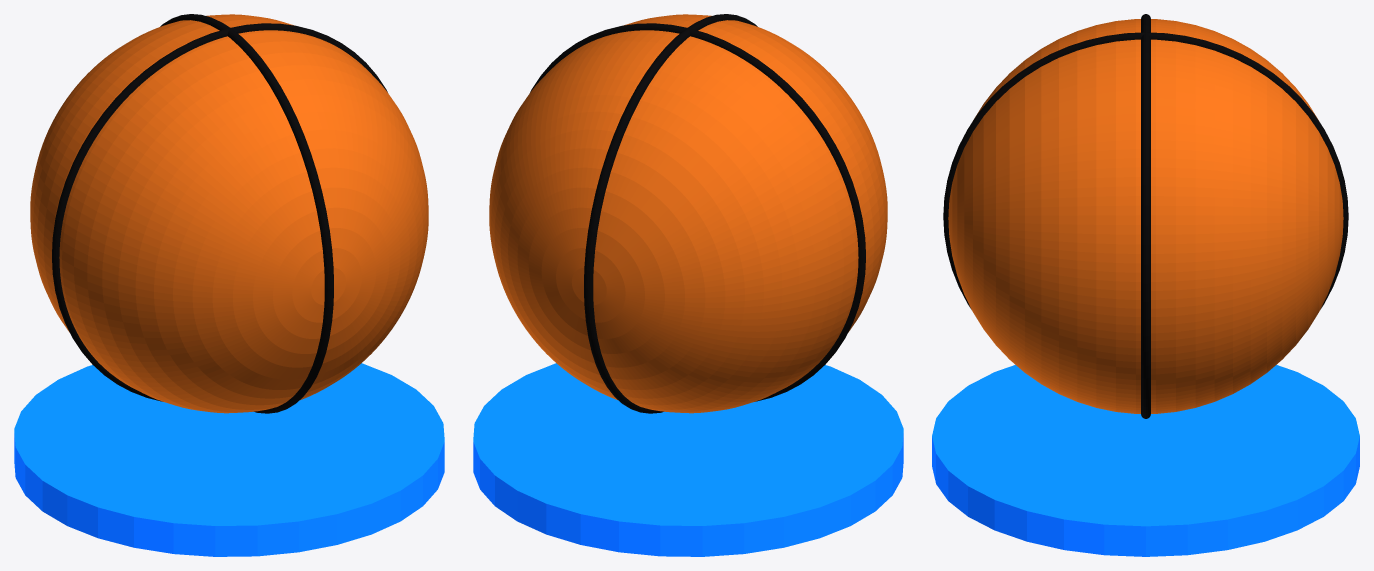
File: sports_basketball.dae
3 renders of one model, left to right at view 1: azimuth 30°, elevation 25°; view 2: azimuth 150°, elevation 25°; view 3: azimuth 270°, elevation 25°, orthographic.
Visible parts, largest first — view 1: 04_02_Popular_Sports_Basketball_part_01, 04_02_Popular_Sports_Basketball_ROOT_base, 04_02_Popular_Sports_Basketball_part_03, 04_02_Popular_Sports_Basketball_part_02; view 2: 04_02_Popular_Sports_Basketball_part_01, 04_02_Popular_Sports_Basketball_ROOT_base, 04_02_Popular_Sports_Basketball_part_03, 04_02_Popular_Sports_Basketball_part_02; view 3: 04_02_Popular_Sports_Basketball_part_01, 04_02_Popular_Sports_Basketball_ROOT_base, 04_02_Popular_Sports_Basketball_part_02, 04_02_Popular_Sports_Basketball_part_03.
Part boxes in pixels (x1=…): 04_02_Popular_Sports_Basketball_part_01: x1=30, y1=14, x2=428, y2=413; 04_02_Popular_Sports_Basketball_ROOT_base: x1=14, y1=363, x2=444, y2=556; 04_02_Popular_Sports_Basketball_part_03: x1=52, y1=23, x2=387, y2=401; 04_02_Popular_Sports_Basketball_part_02: x1=160, y1=14, x2=333, y2=413; 04_02_Popular_Sports_Basketball_part_01: x1=489, y1=14, x2=887, y2=413; 04_02_Popular_Sports_Basketball_ROOT_base: x1=473, y1=363, x2=903, y2=556; 04_02_Popular_Sports_Basketball_part_03: x1=530, y1=23, x2=865, y2=401; 04_02_Popular_Sports_Basketball_part_02: x1=584, y1=14, x2=757, y2=413; 04_02_Popular_Sports_Basketball_part_01: x1=948, y1=19, x2=1343, y2=413; 04_02_Popular_Sports_Basketball_ROOT_base: x1=932, y1=365, x2=1359, y2=556; 04_02_Popular_Sports_Basketball_part_02: x1=943, y1=32, x2=1348, y2=309; 04_02_Popular_Sports_Basketball_part_03: x1=1141, y1=14, x2=1150, y2=418.
Size of the model in its own units: 0.76 by 0.85 by 0.76.
